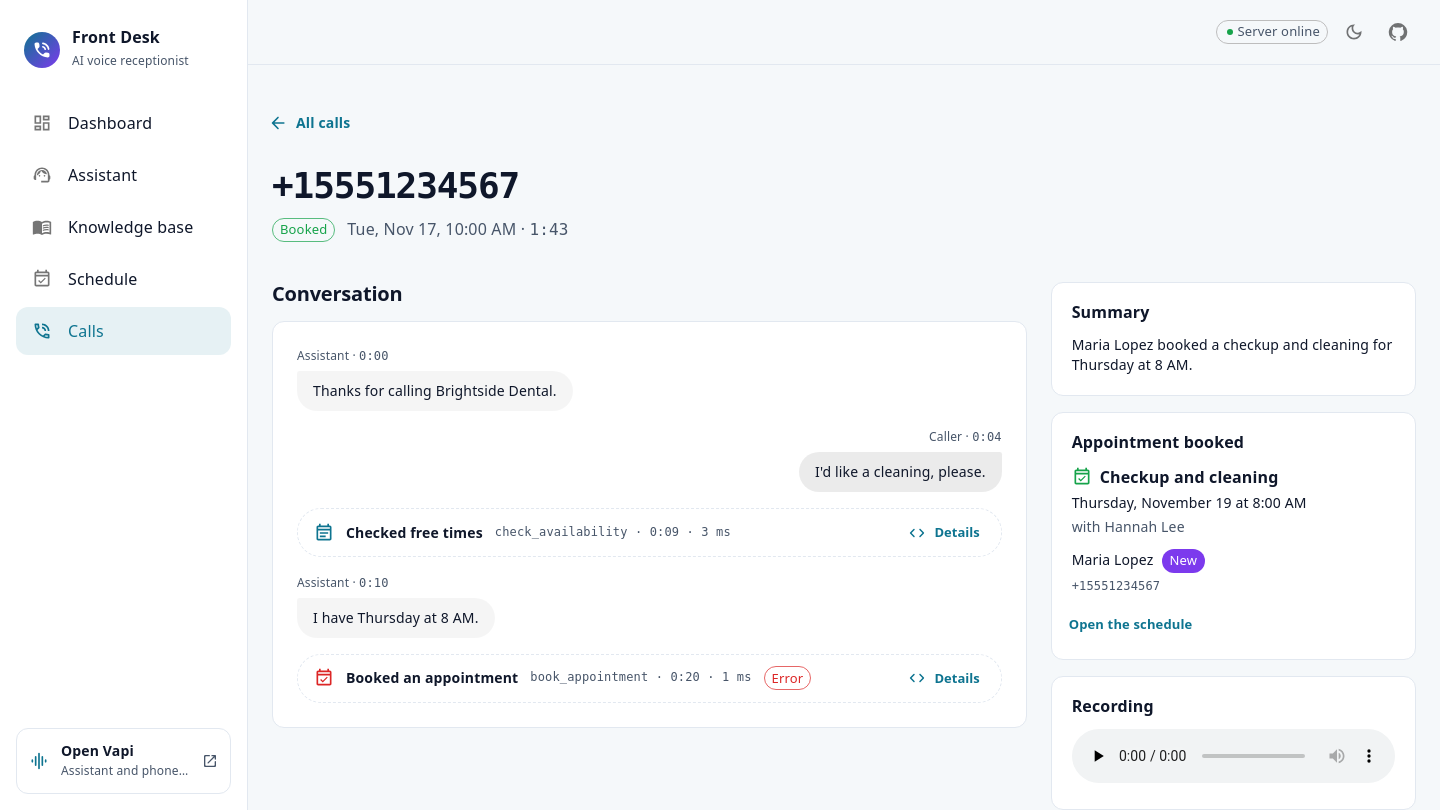
Scenario: Call page › shows the conversation with the functions run in it, in order
This screenshot has width=1440, height=810.
Check: the list item "Checked free times check_availability · 0:09 · 3 ms Details" is shown, box [297,508,1002,557]
Check: the list item with aria-label "Booked an appointment" shows "0:20", box [670,670,700,684]
Click the button "Details" in the row of "· 3 ms" at {"x": 945, "y": 533}, box [906,517,985,548]
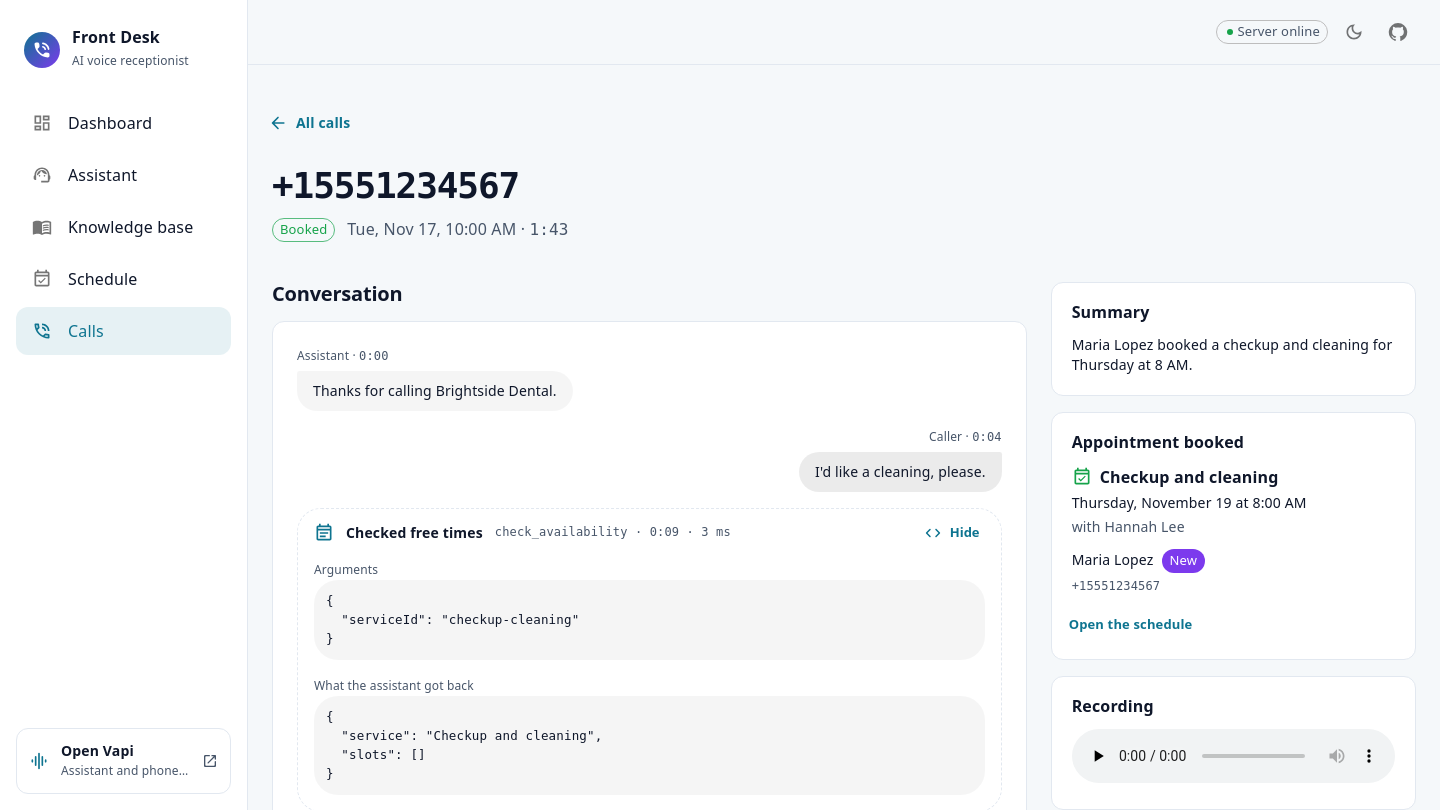
Check: the text "{ \"serviceId\": \"checkup-cleaning\" }" is shown, box [314,580,985,660]
Check: the text "{ \"service\": \"Checkup and cleaning\", \"slots\": [] }" is shown, box [314,696,985,795]
